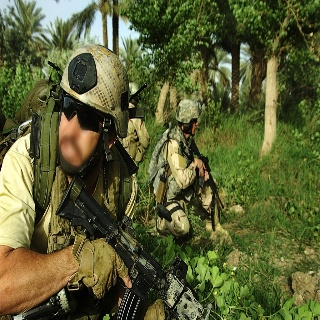rifle: (55, 174, 209, 320)
